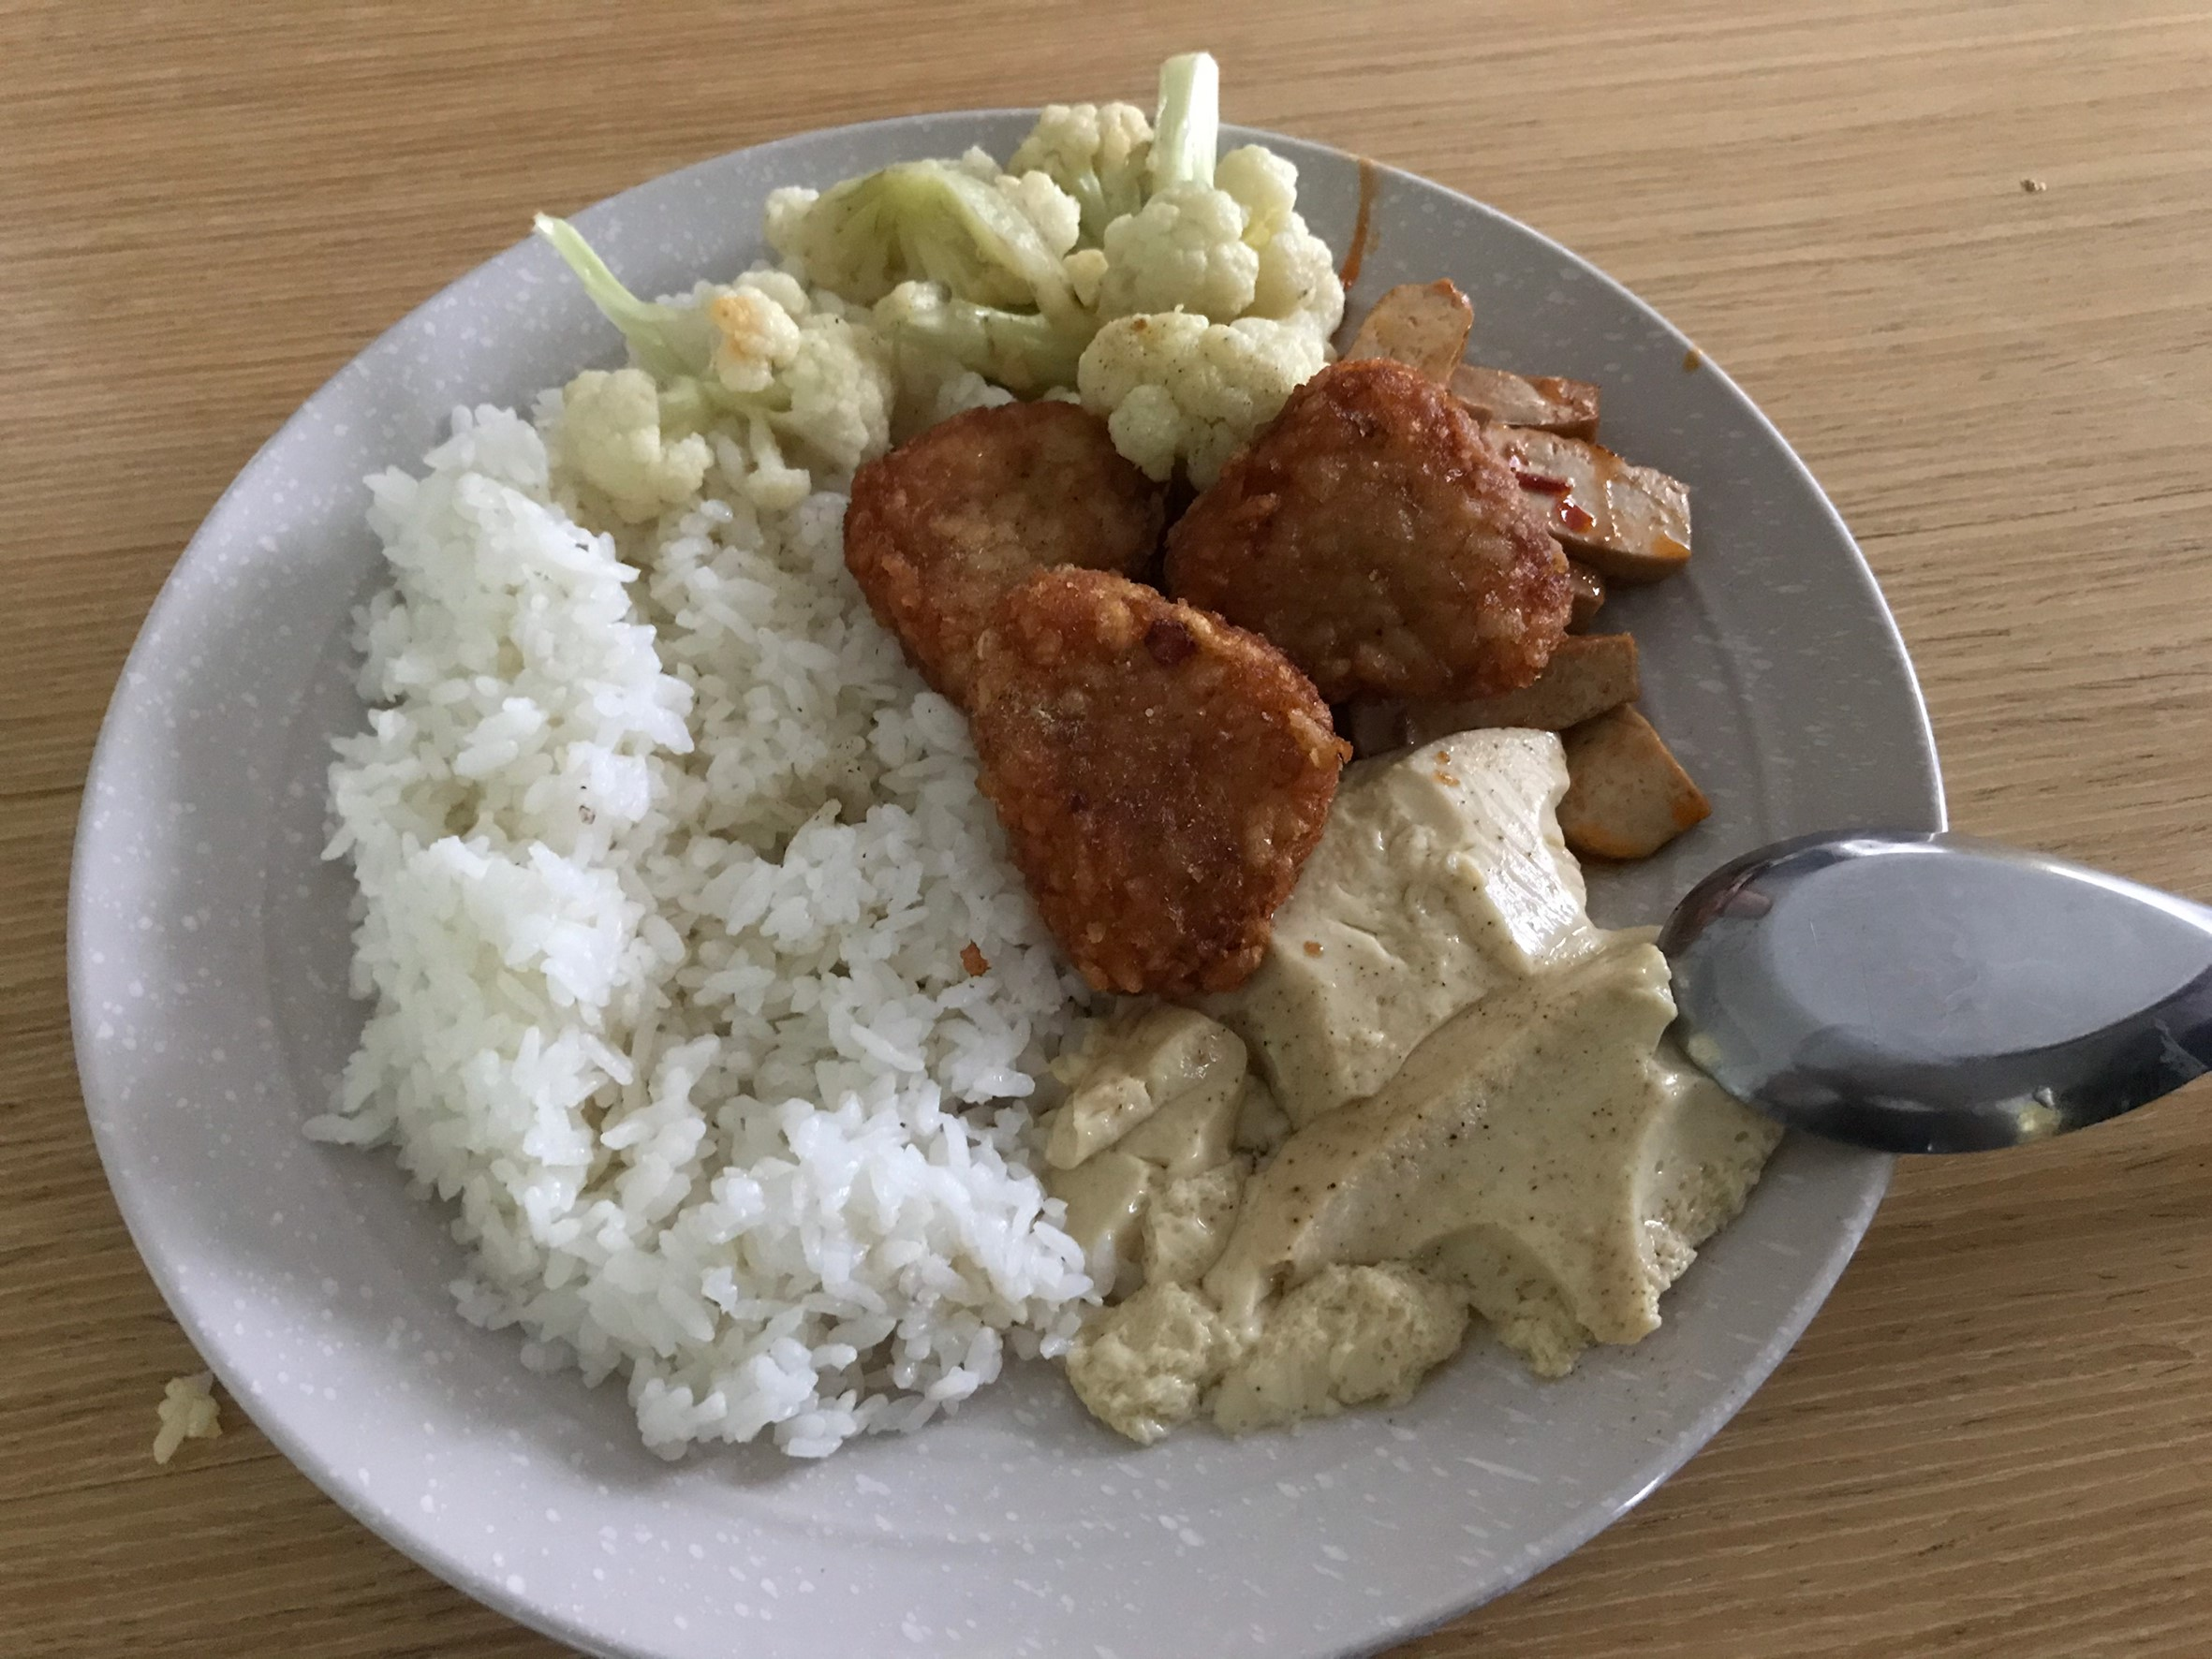rice: (331, 375, 1062, 1452)
triangle_hash_brown: (851, 366, 1572, 978)
